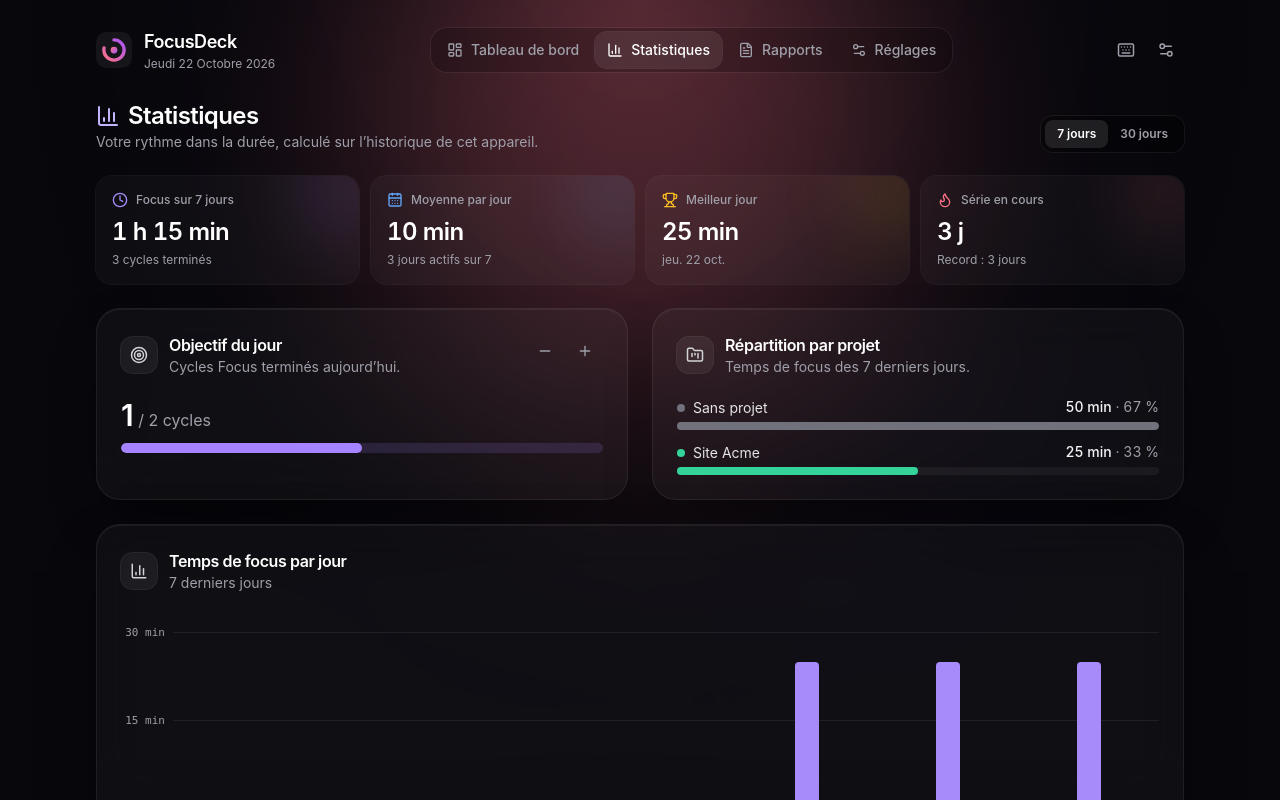
Test: Page Statistiques (EF-R03, EF-T07) › affiche totaux, série, objectif, répartition et tableaux de données
The image size is (1280, 800).
Expected: the heading "Statistiques" is shown, top-left (96, 101), bottom-right (258, 130)
Expected: the element named "Indicateurs" shows "1 h 15 min", top-left (112, 217), bottom-right (229, 246)
Click the button named "Diminuer l’objectif quotidien" at (545, 351), box top-left (527, 333), bottom-right (563, 369)
(page scrolled)
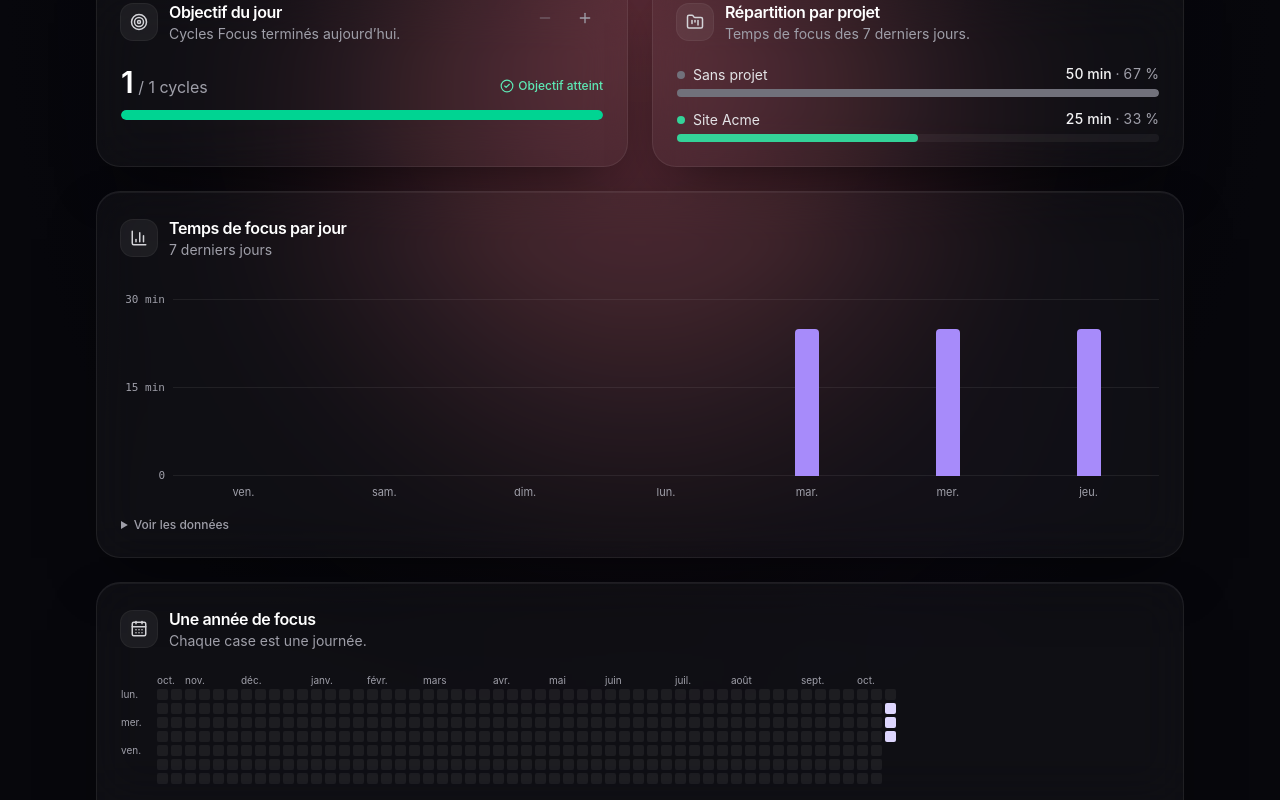
Expected: the element "Répartition par projet" shows "Site Acme", top-left (693, 111), bottom-right (760, 128)
Now the element named "Objectif quotidien de cycles" has attribute aria-valuetext="1 cycle sur 1, objectif atteint", box top-left (121, 110), bottom-right (603, 120)
Navigation clavier dans le graphique en barres.
Press End in the element named "Temps de focus par jour sur 7 jours", box top-left (121, 300), bottom-right (1159, 500)
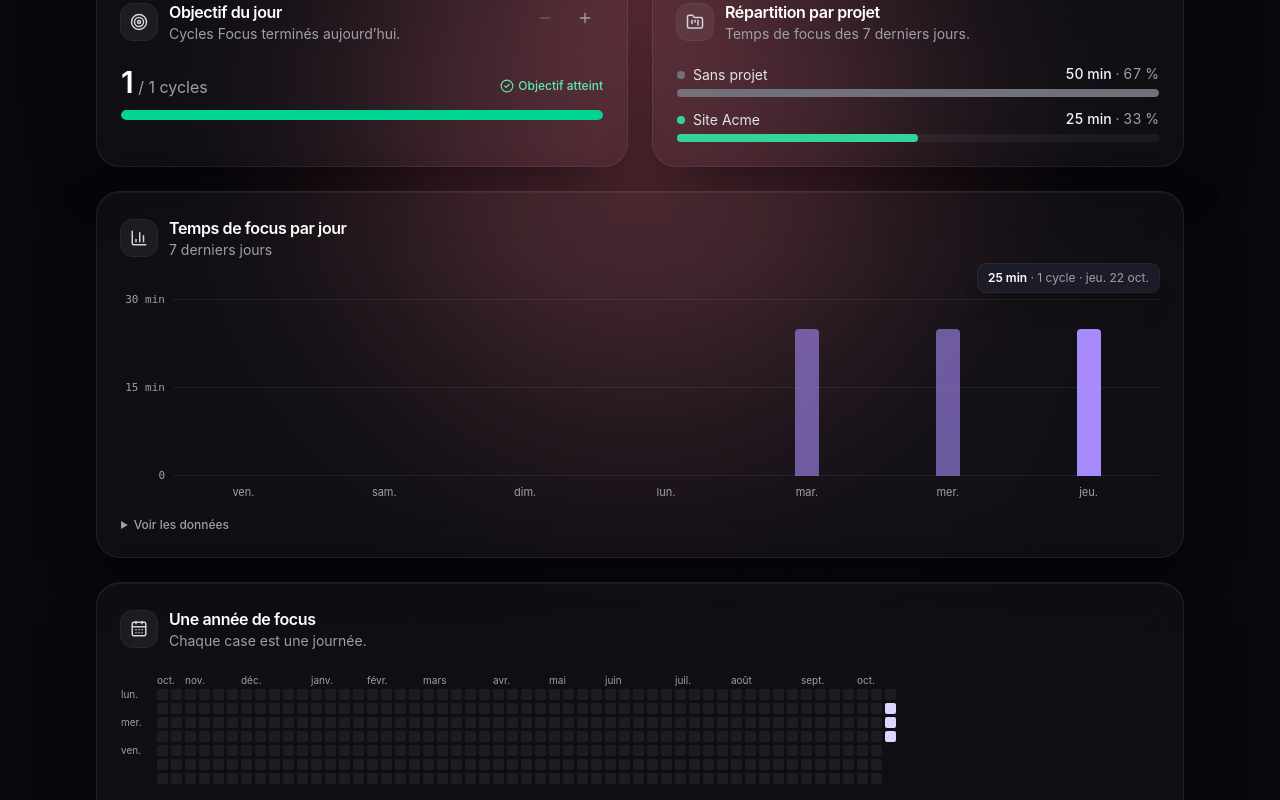
Press ArrowLeft in the element named "Temps de focus par jour sur 7 jours", box top-left (121, 300), bottom-right (1159, 500)
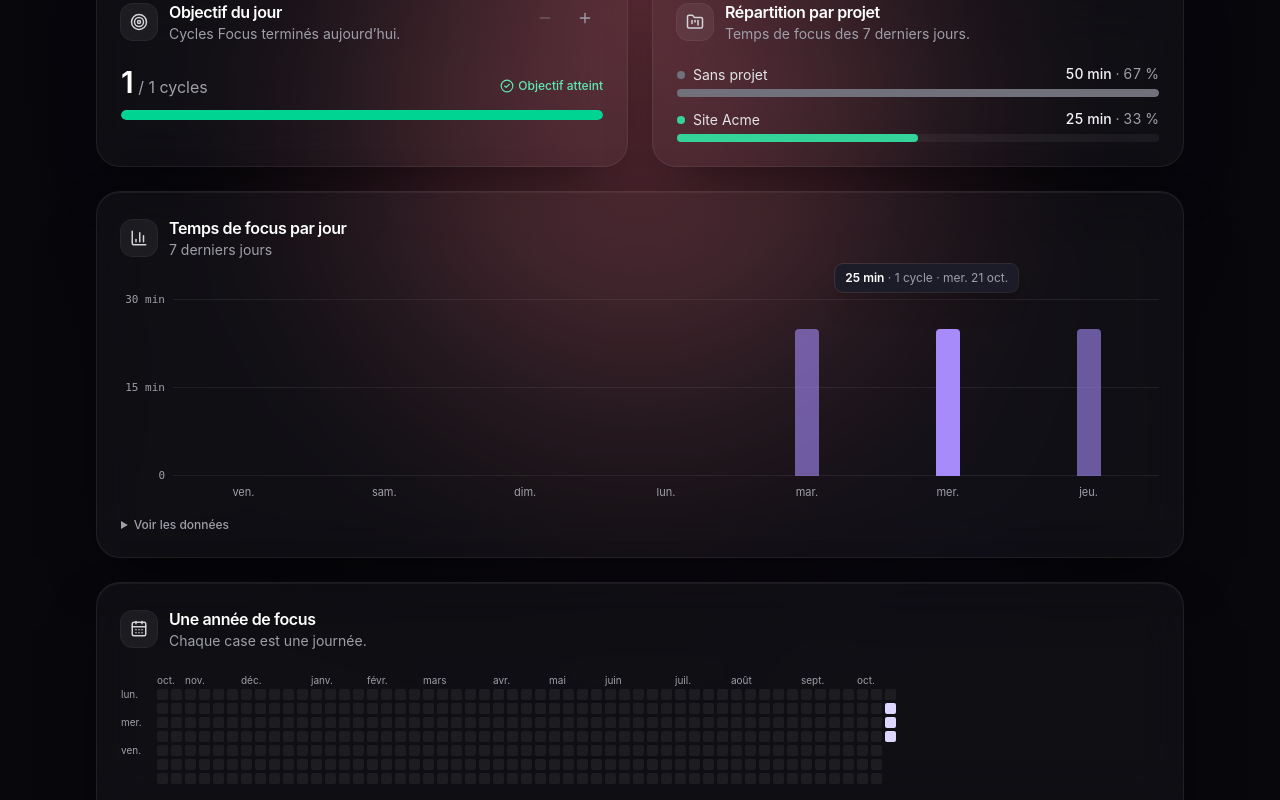
Press Home in the element named "Temps de focus par jour sur 7 jours", box top-left (121, 300), bottom-right (1159, 500)
(page scrolled)
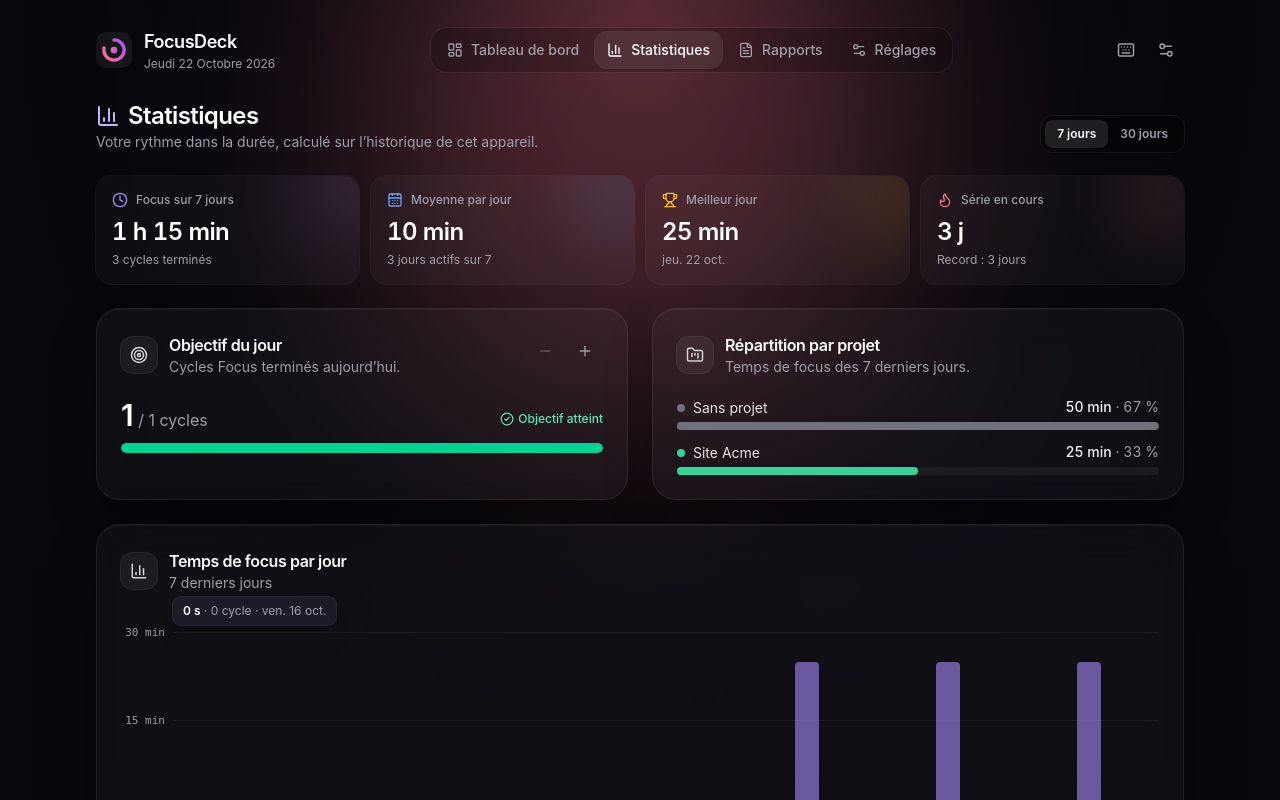
Click the radio button labelled "30 jours" at (1144, 134), box top-left (1108, 120), bottom-right (1180, 148)
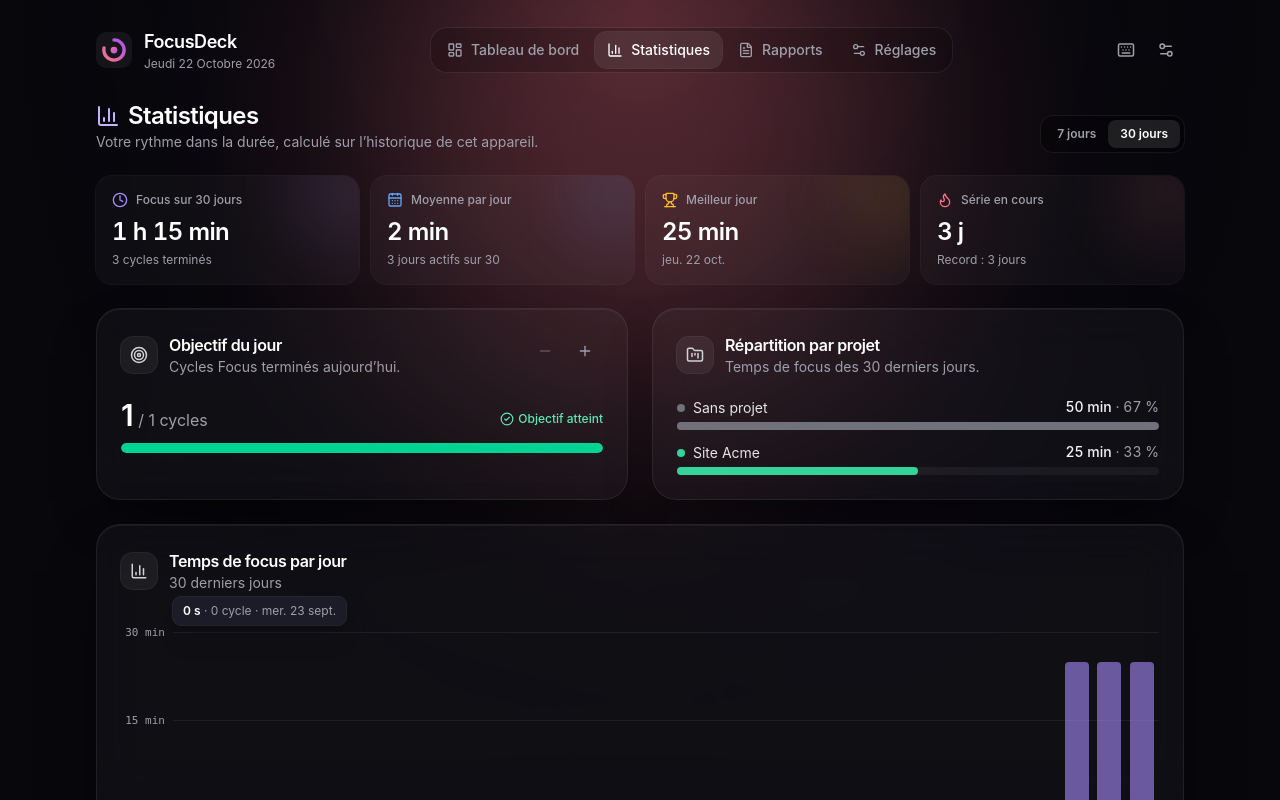
Now the text "Focus sur 30 jours" is shown, box top-left (112, 192), bottom-right (242, 208)
